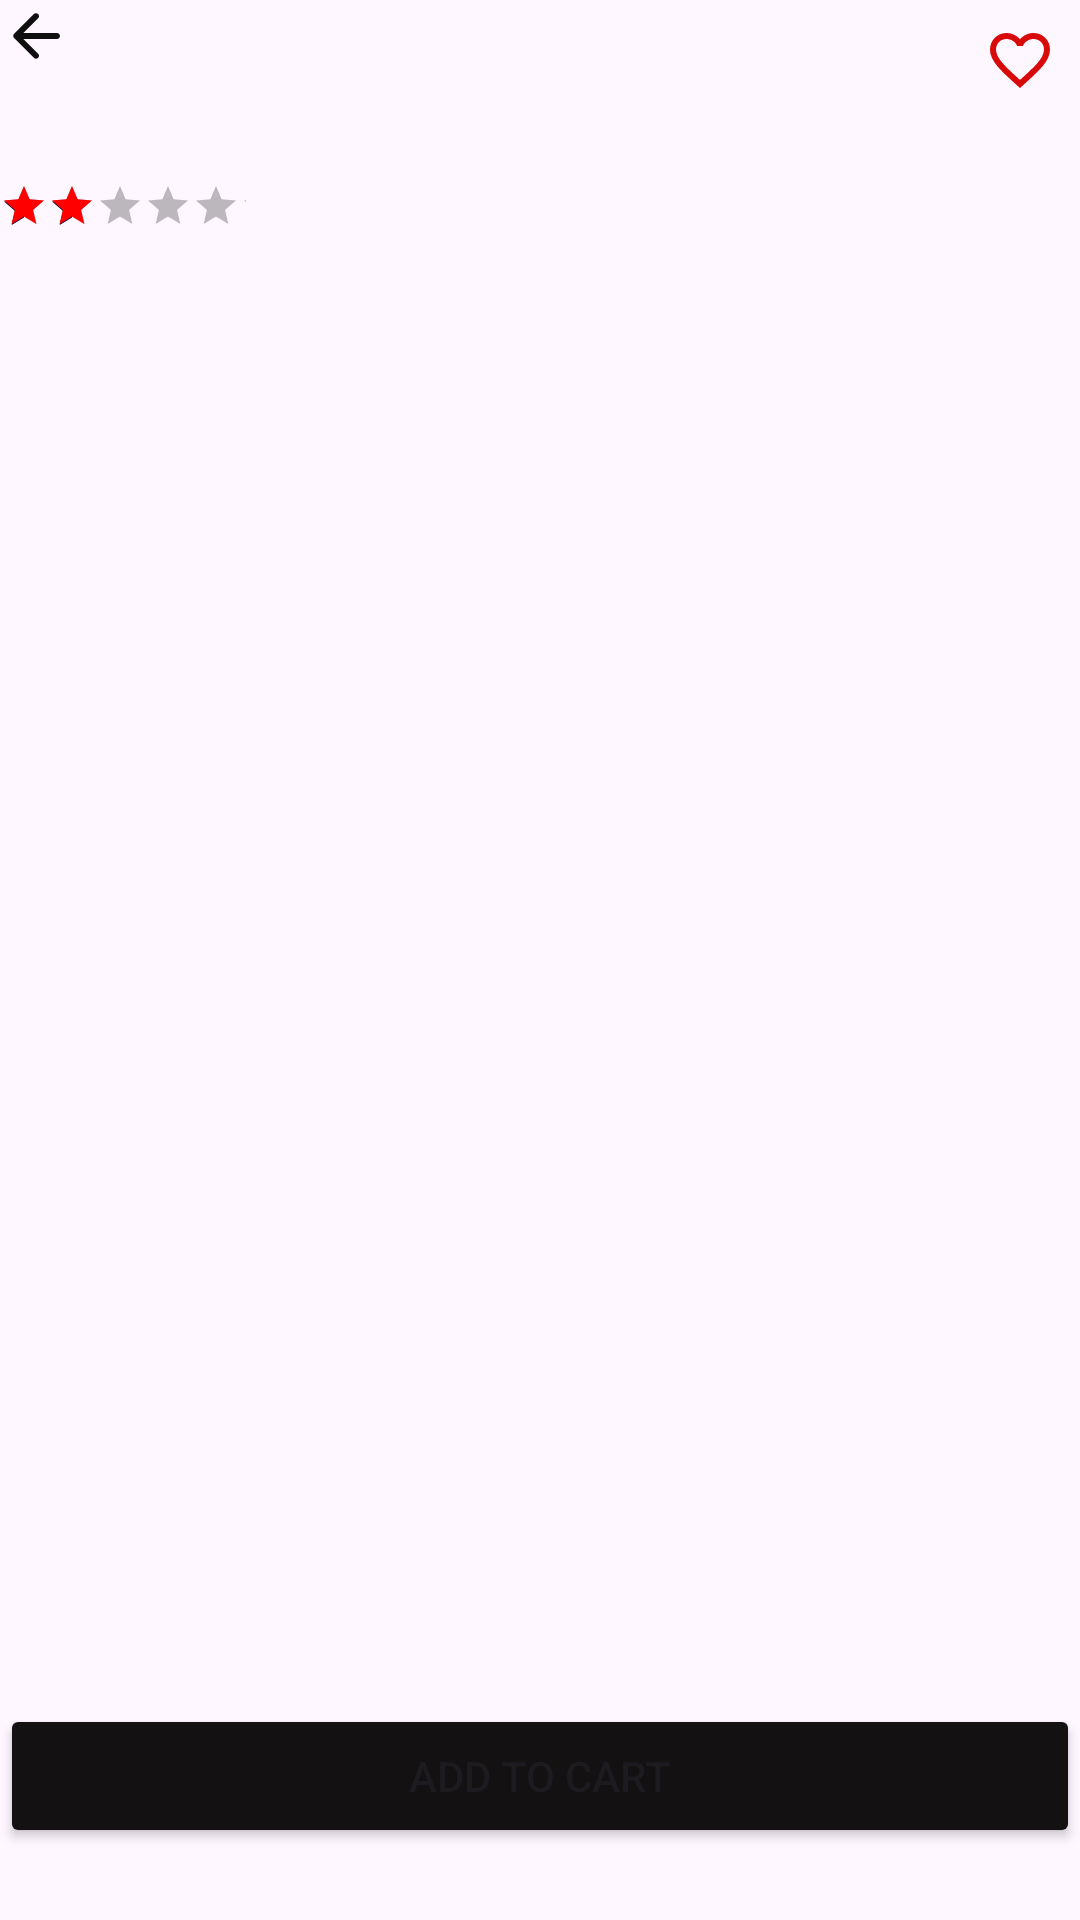

Icon click points for this 1080×1920 phone screenshot, format (x=x, y=y):
back: (x=36, y=36)
fav: (x=1020, y=60)
